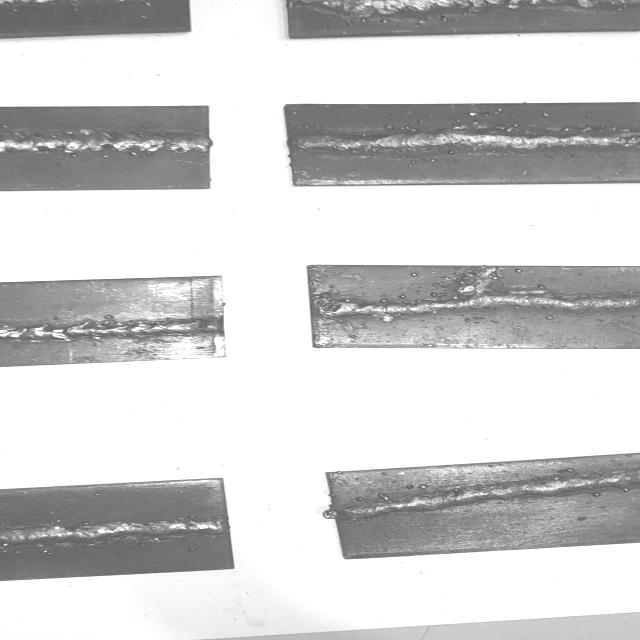Bad Weld: (314, 292, 640, 316)
Defect: (307, 0, 640, 17), (456, 266, 514, 316)
Good Weld: (340, 468, 640, 521), (291, 126, 640, 151), (0, 515, 229, 549), (0, 315, 223, 343), (0, 133, 211, 155)
